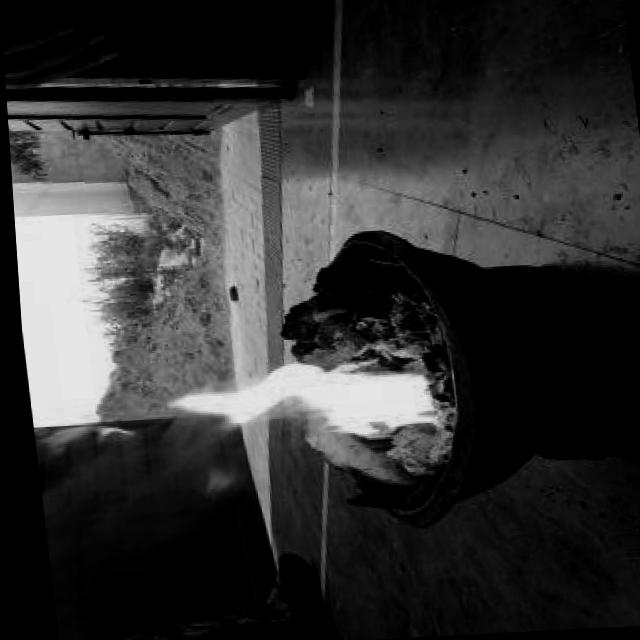no_helmet: (144, 349, 435, 454), (189, 458, 247, 500)
